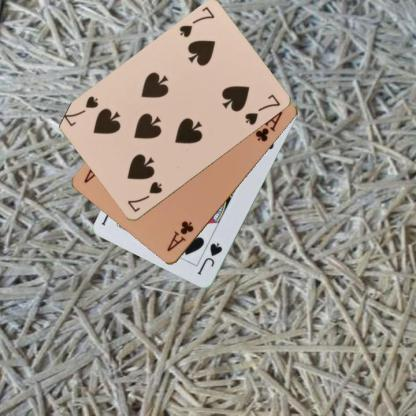7s: (124, 179, 164, 214), (176, 4, 216, 39)
Ac: (164, 219, 195, 252)
Js: (194, 240, 224, 277)
